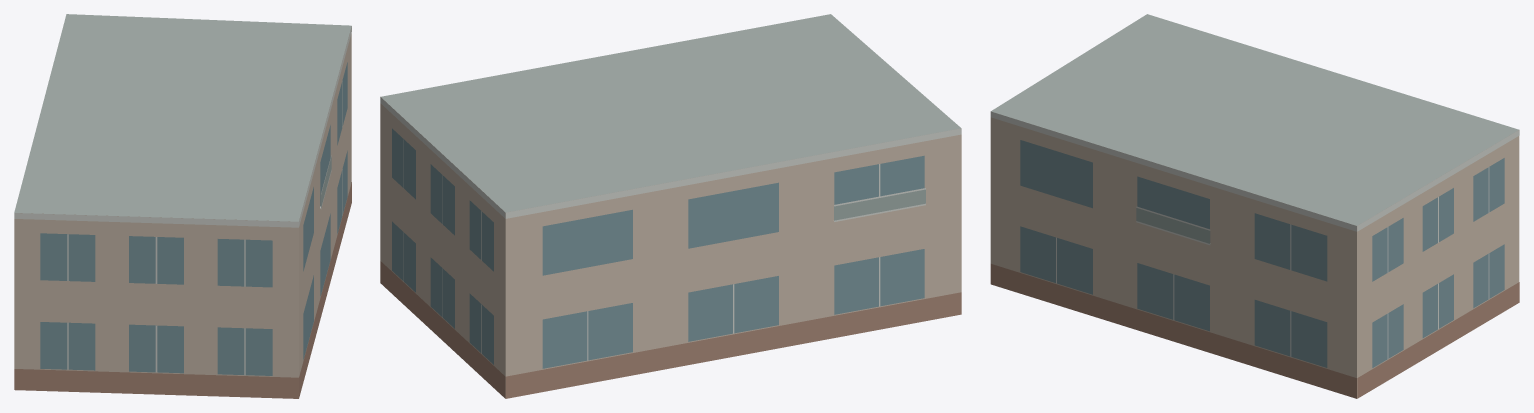
File: survey-upis-32758343.glb
3 renders of one model, left to right at view 1: azimuth 30°, elevation 25°; view 2: azimuth 150°, elevation 25°; view 3: azimuth 270°, elevation 25°, orthographic. The views are drawn at different scales.
Parts seen in each view (by area): view 1: survey-upis-32758343.tmp; view 2: survey-upis-32758343.tmp; view 3: survey-upis-32758343.tmp.
Boxes of the visible parts, x1,y1,x2,y2 form: survey-upis-32758343.tmp: (14, 14, 351, 398); survey-upis-32758343.tmp: (380, 14, 961, 398); survey-upis-32758343.tmp: (990, 14, 1519, 398).
Size of the model in its own units: 18.94 by 7.2 by 19.96.
